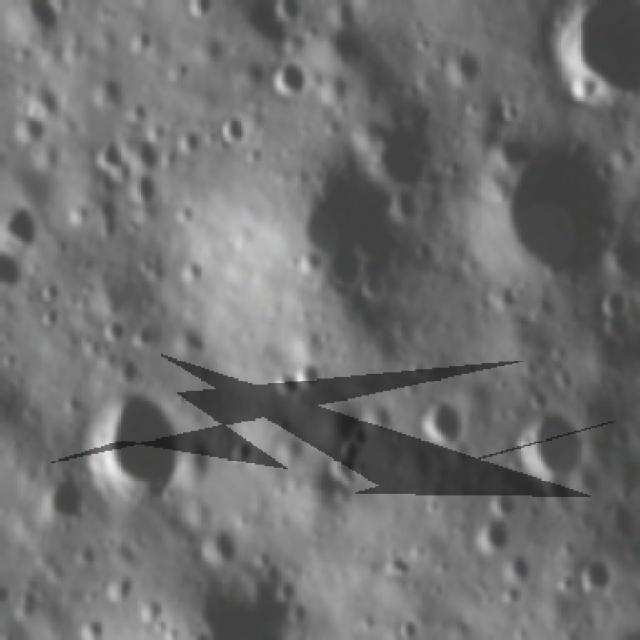crater: (470, 131, 627, 286), (271, 159, 409, 330), (85, 389, 193, 513), (546, 0, 640, 112), (498, 409, 599, 503), (358, 97, 452, 194), (402, 383, 475, 459), (36, 470, 98, 538), (6, 0, 80, 51), (0, 196, 51, 258), (191, 522, 246, 575), (262, 52, 308, 108), (85, 131, 130, 178), (252, 360, 302, 402), (287, 349, 330, 396), (208, 108, 250, 150), (118, 168, 162, 207), (473, 514, 510, 558), (577, 555, 614, 597), (89, 70, 126, 107), (178, 0, 224, 29), (502, 546, 538, 583), (123, 24, 159, 56), (76, 612, 110, 640), (177, 627, 214, 640)
